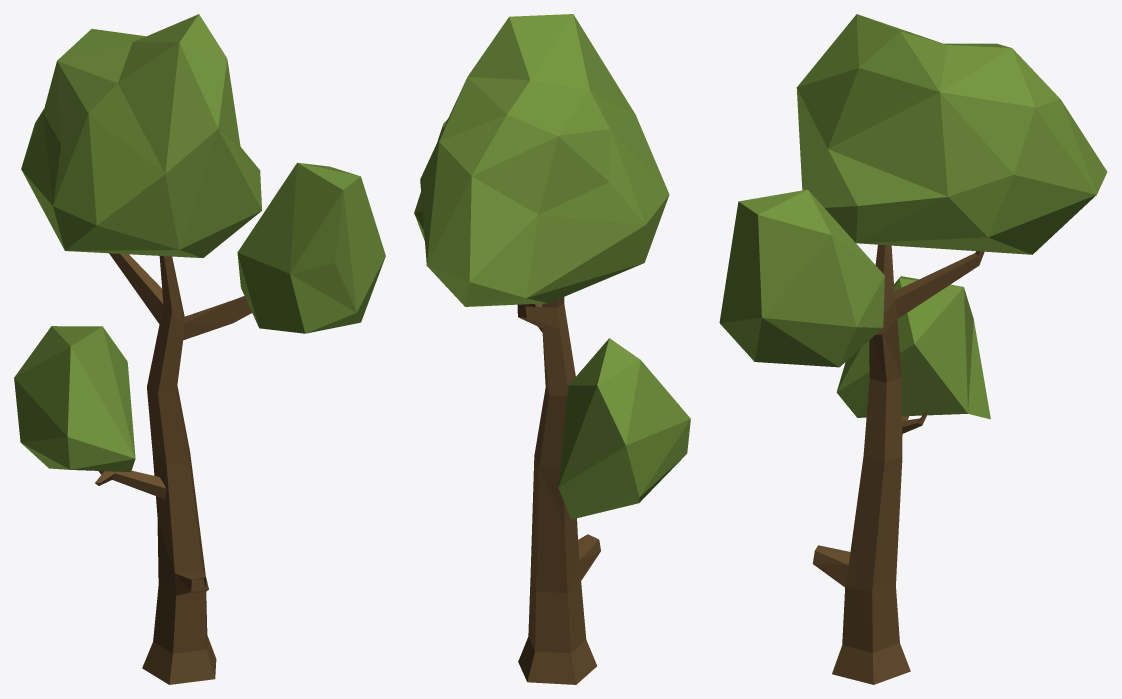
The model's file is Tree_03.fbx.
3 views of the same model, side by side, from view 1: azimuth 30°, elevation 25°; view 2: azimuth 150°, elevation 25°; view 3: azimuth 270°, elevation 25° (orthographic). The views are drawn at different scales.
Parts seen in each view (by area): view 1: Tree_03; view 2: Tree_03; view 3: Tree_03.
Part boxes in pixels (left/top/right/bottom): Tree_03: left=14, top=14, right=385, bottom=684; Tree_03: left=414, top=14, right=690, bottom=684; Tree_03: left=719, top=14, right=1107, bottom=684.
Bounding box in the file's own units: 154 × 342 × 185.
